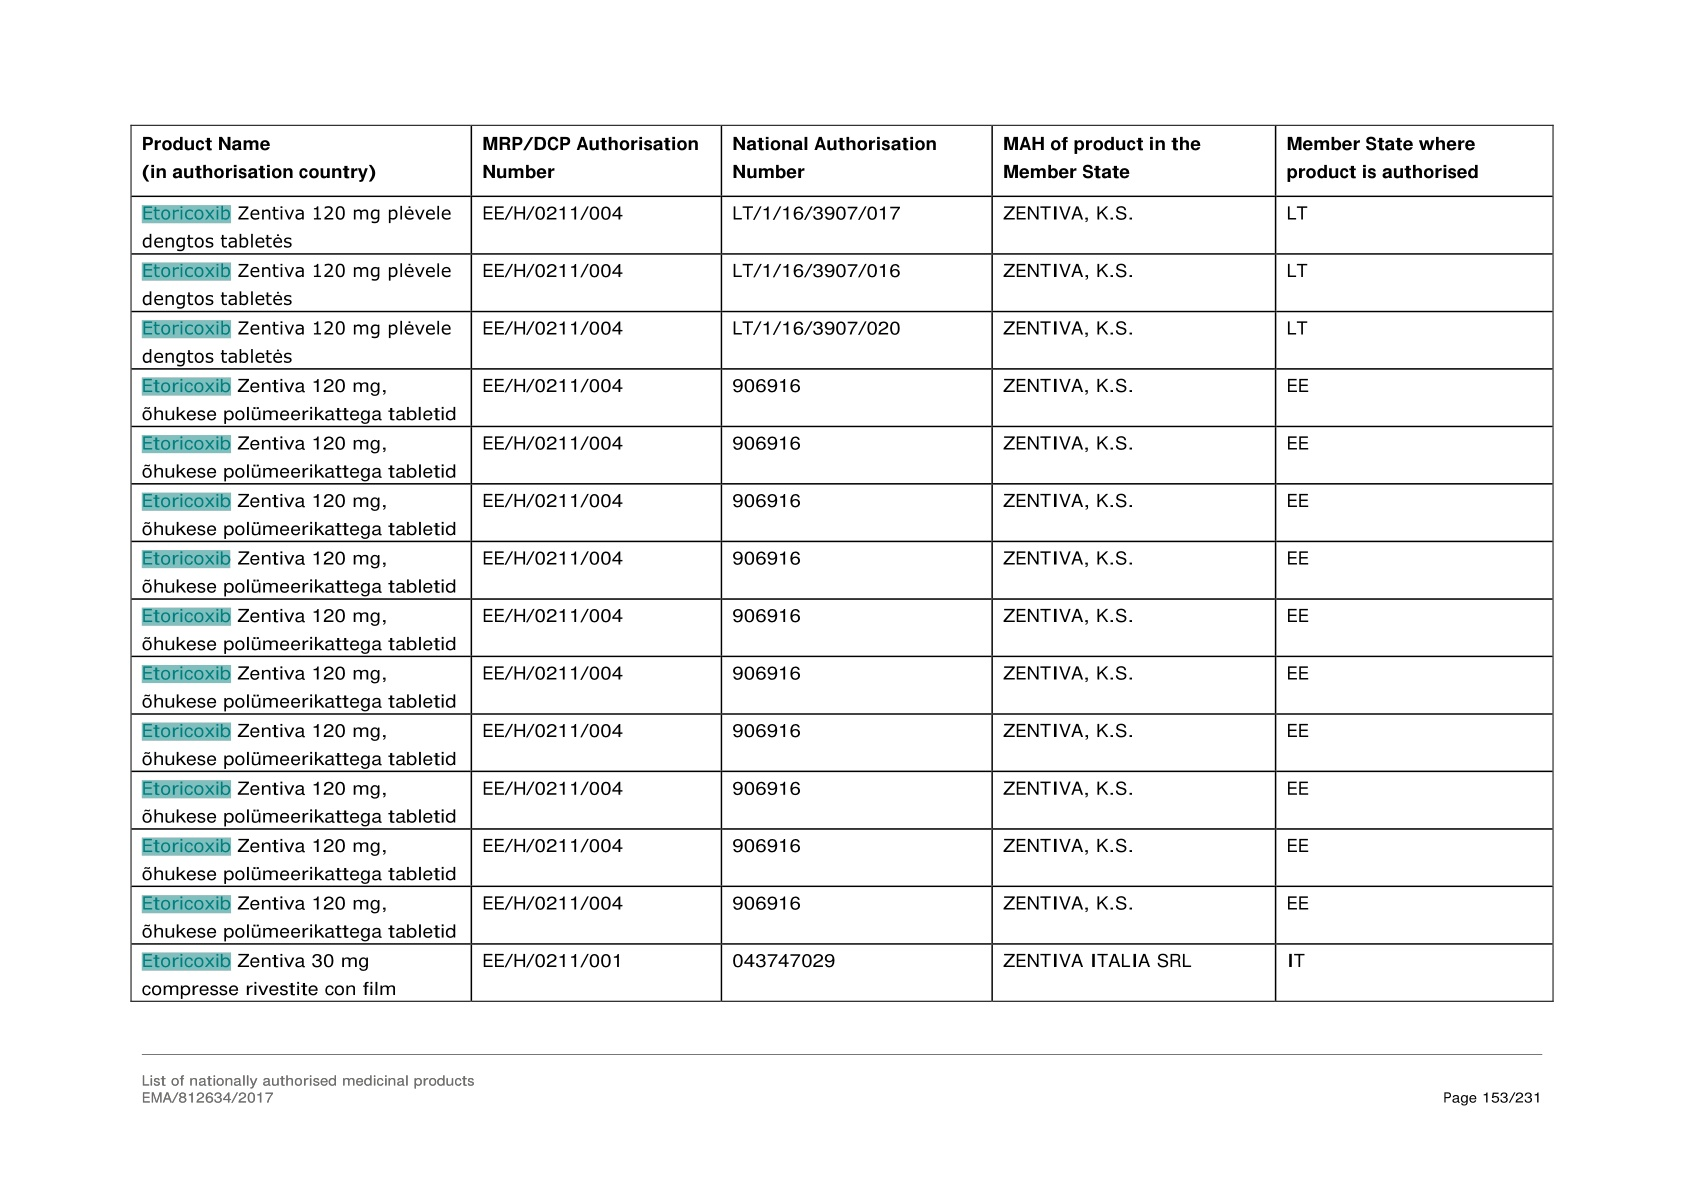full_lined: (130, 124, 1554, 1003)
